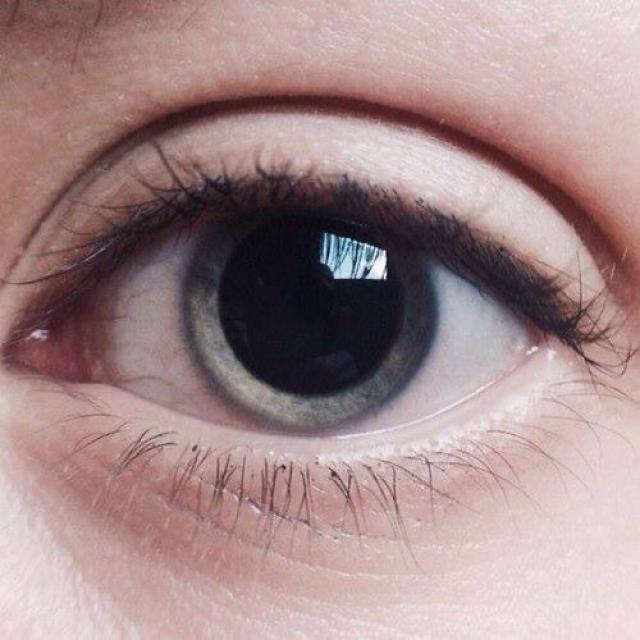eye: (32, 113, 562, 523)
